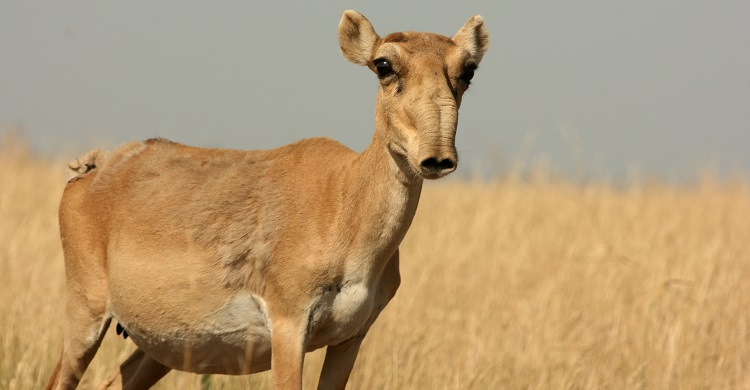saiga: (33, 18, 485, 390)
